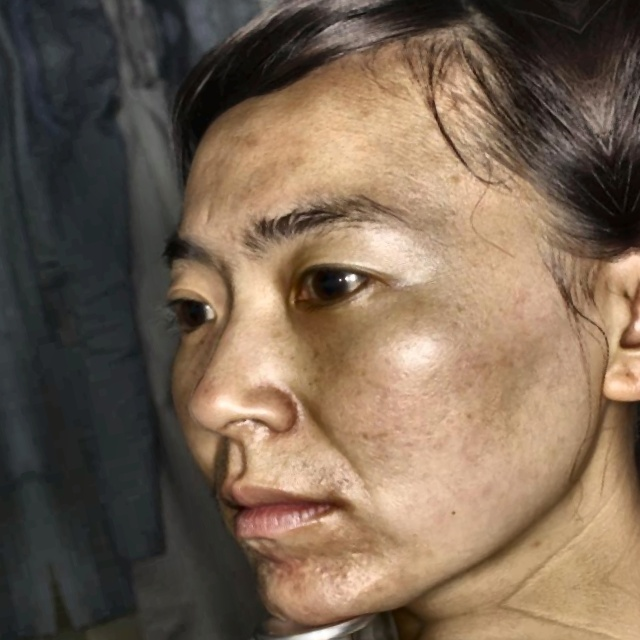comedone: (276, 560, 323, 597), (258, 534, 297, 570)
